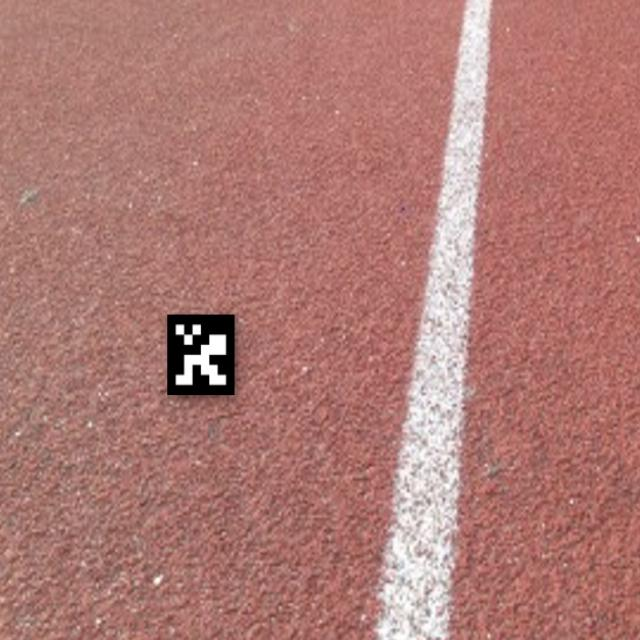marker: (160, 300, 250, 406)
